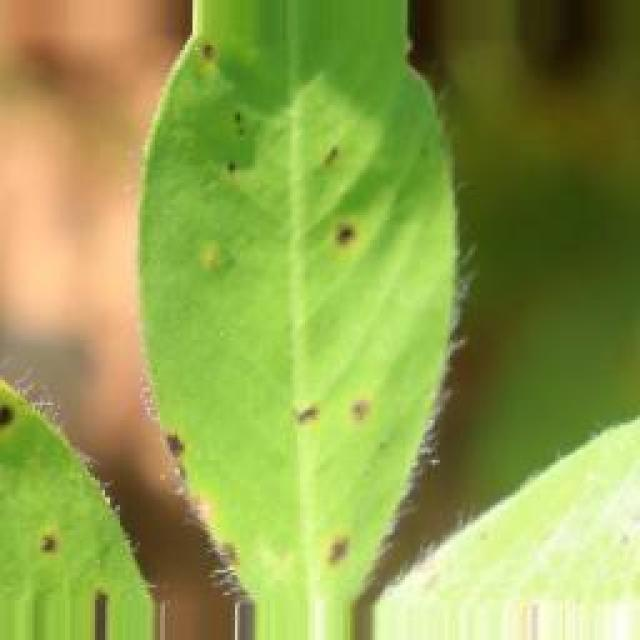Sigatoka: (318, 188, 376, 274), (295, 394, 381, 445), (155, 425, 211, 480), (216, 104, 272, 159), (74, 580, 121, 640), (210, 145, 250, 201), (317, 523, 359, 576), (15, 516, 60, 557), (0, 392, 28, 439), (192, 234, 223, 276), (192, 26, 212, 81), (323, 131, 344, 170)
